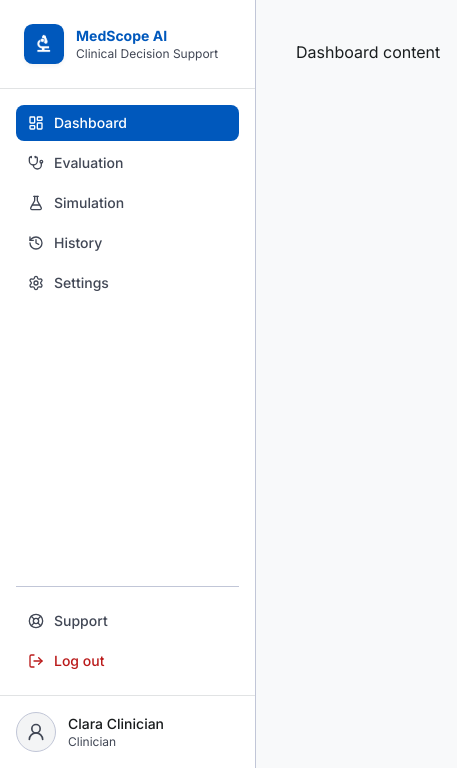
Test: RTS-020 MVP sidebar navigation › shows clinician MVP links and navigates between modules
Expected: the link "Dashboard" is shown, [16,105,239,141]
Expected: the link "Simulation" is shown, [28,194,124,211]
Click the link "Evaluation": (76, 162) [28,154,123,171]
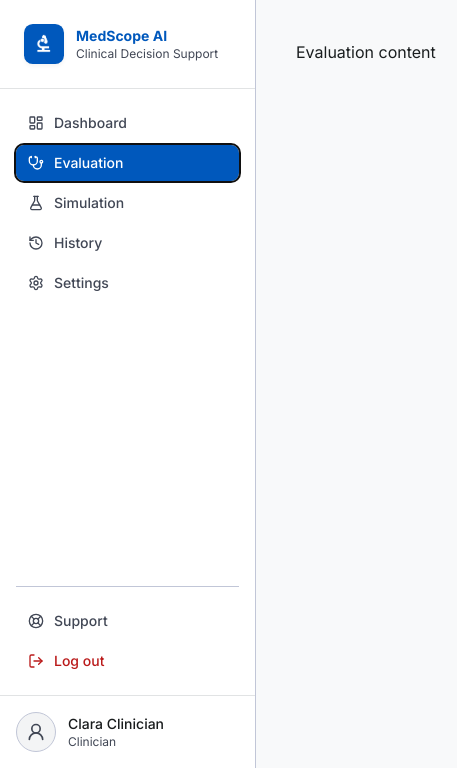
Expected: the text "Evaluation content" is shown, [296,42,436,62]
Click the link "Simulation": (76, 202) [28,194,124,211]
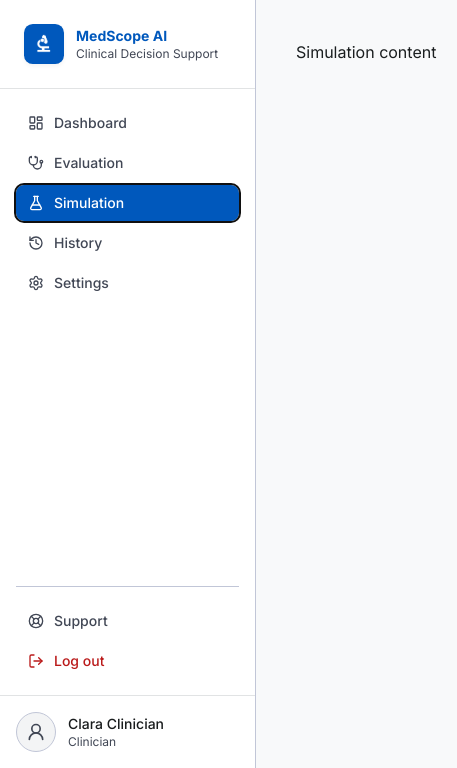
Expected: the text "Simulation content" is shown, [296,42,436,62]
